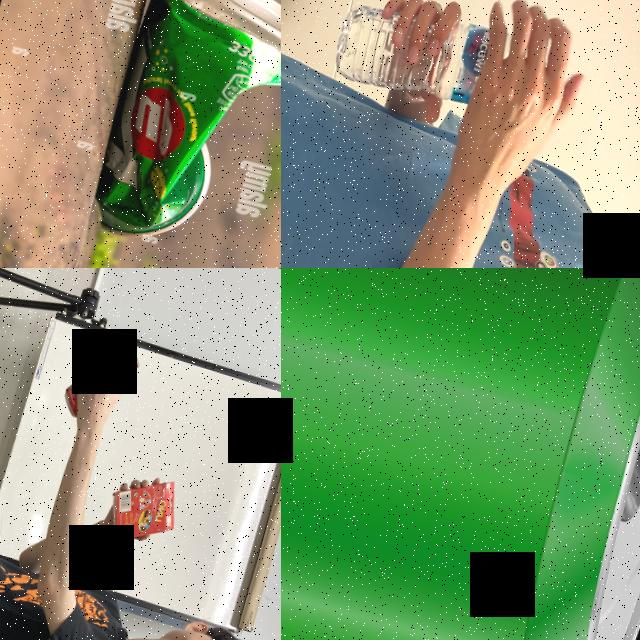bottle: (326, 0, 553, 131)
can: (281, 268, 640, 640), (56, 324, 146, 432)
